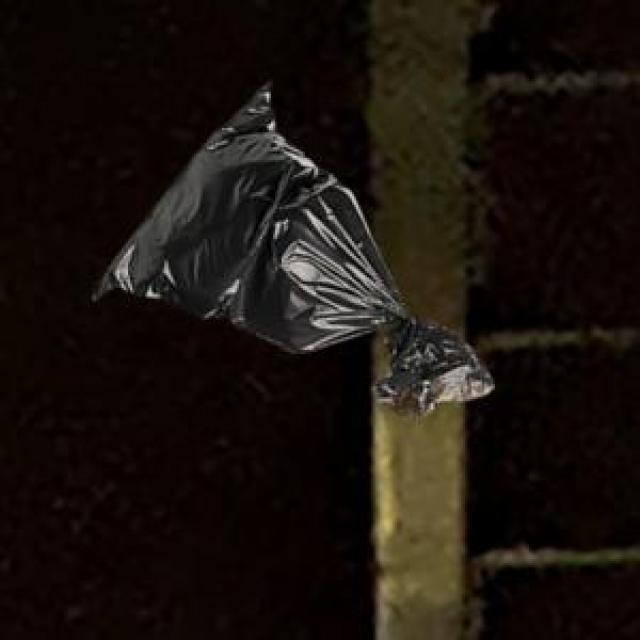miscellaneous trash: (90, 77, 491, 414)
